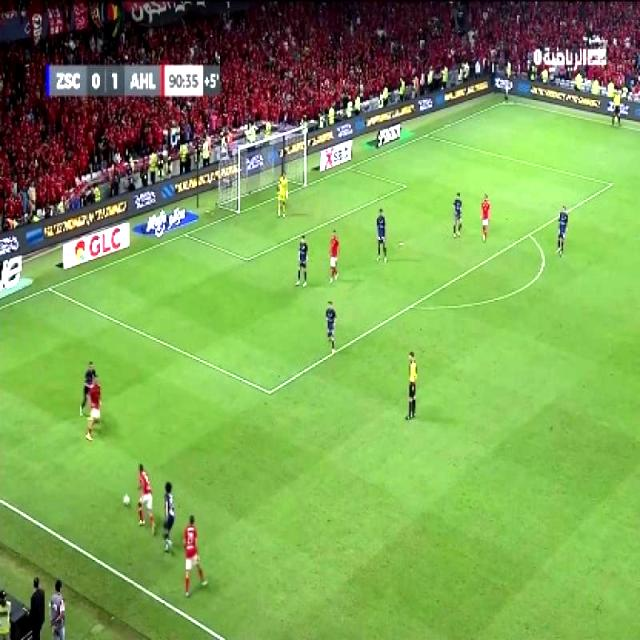bigarea_bottom_inner: (264, 382, 278, 400)
bigarea_bottom_outter: (43, 281, 54, 294)
bigarea_top_inner: (604, 177, 614, 191)
bigarea_top_outter: (423, 129, 429, 139)
bottom_arc_area_intersection: (406, 298, 416, 312)
corner: (501, 97, 511, 103)
smallarea_bottom_inner: (242, 249, 252, 266)
smallarea_bottom_outter: (182, 229, 188, 239)
smallarea_top_inner: (398, 180, 408, 190)
top_arc_area_intersection: (524, 230, 532, 240)
